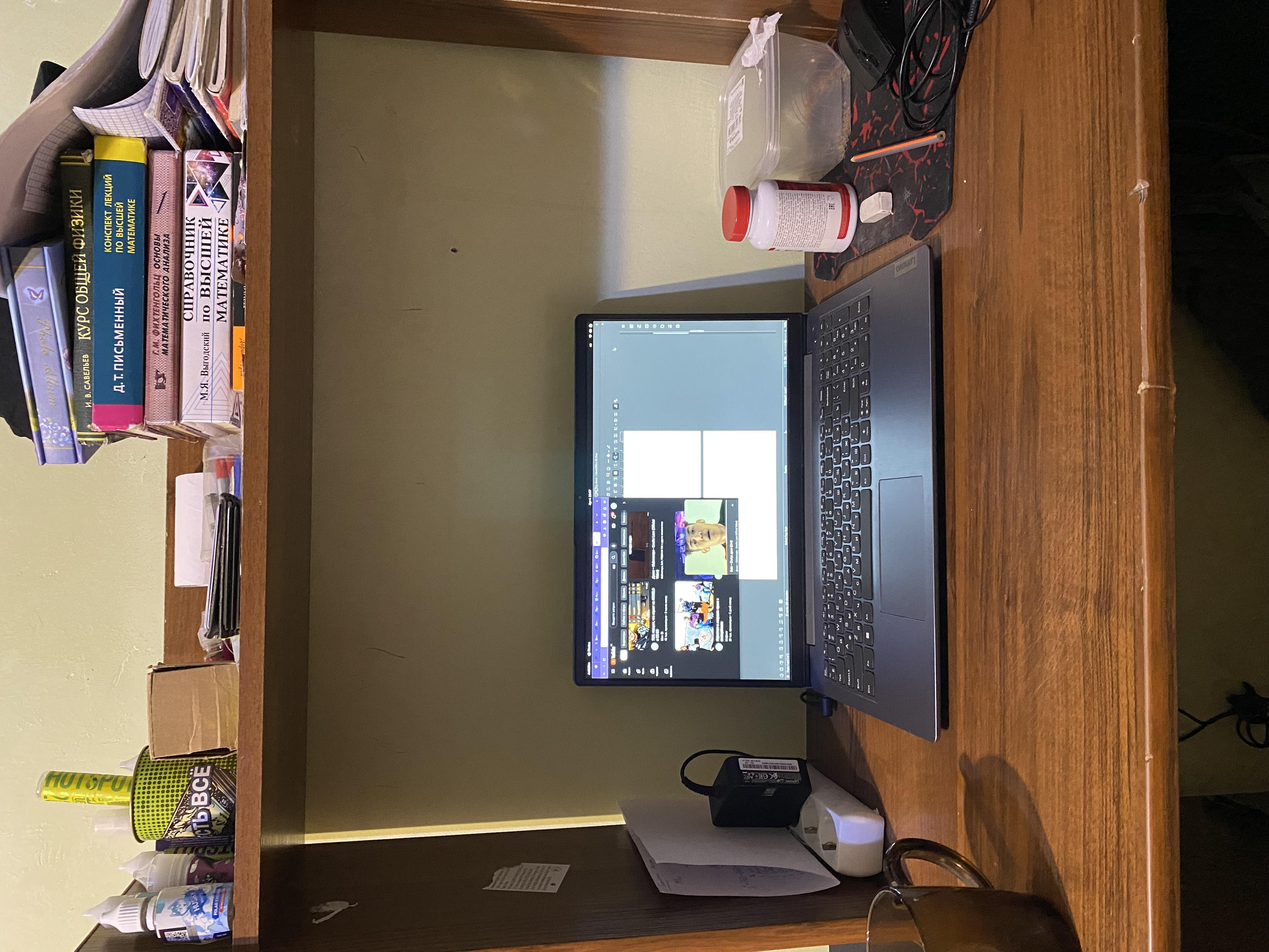monitor: (342, 426, 864, 613)
